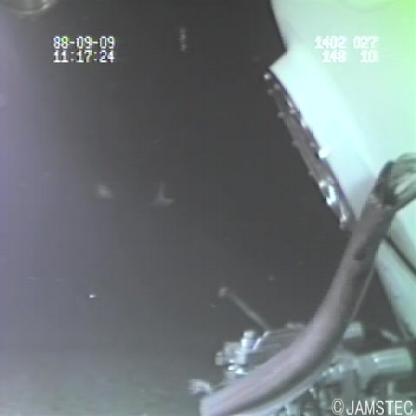Bio: (185, 148, 416, 415)
Rov: (261, 1, 416, 246), (209, 316, 416, 410)
